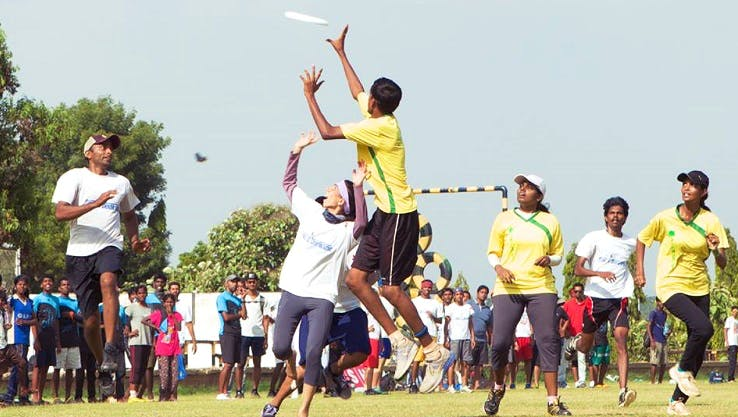disc: (279, 7, 335, 31)
